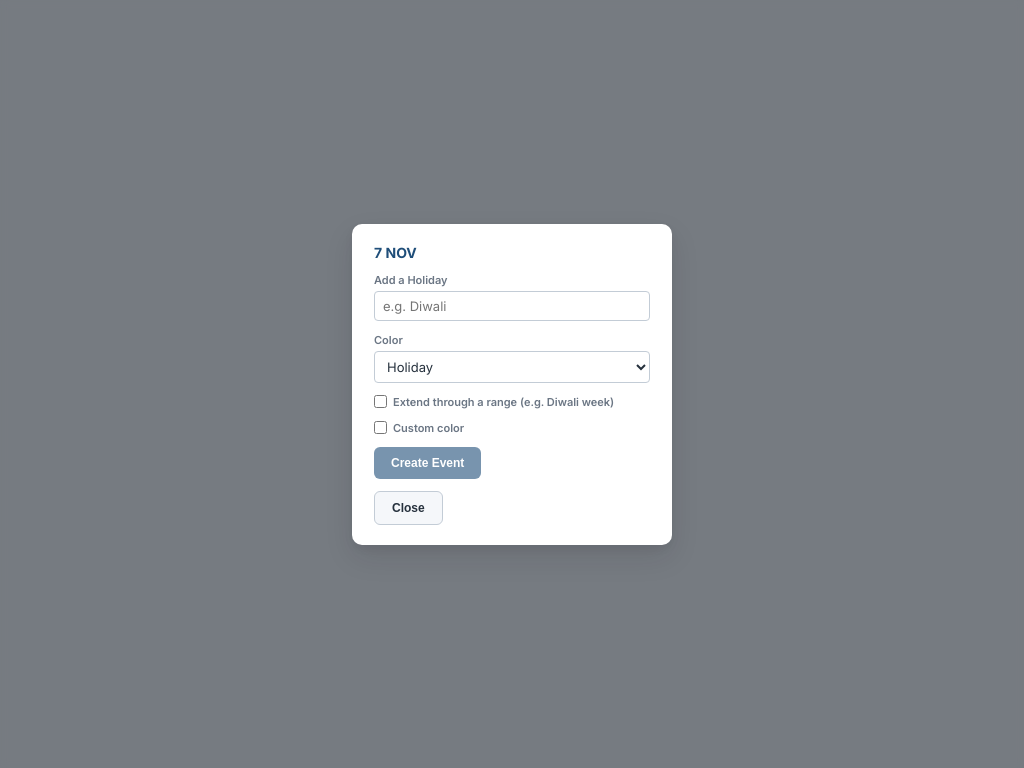
Test: DayEditor › disables Create Event until a holiday name is entered, and defaults to a single day with no color override
The width and height of the screenshot is (1024, 768).
Later steps or results of the test are not shown.
Expected: the button "Create Event" is disabled, [374,446,481,478]
Type "Republic Day" into the field with placeholder "e.g. Diwali" at (512, 306), box [374,290,650,320]
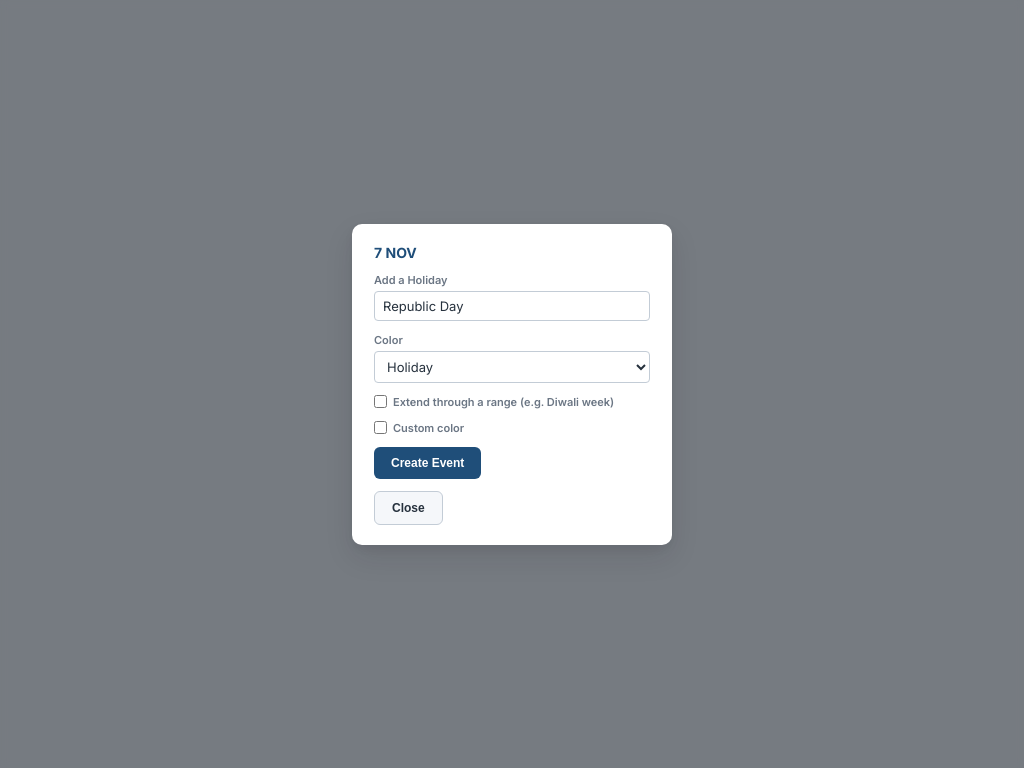
Result: the button "Create Event" is enabled at [374,446,481,478]
